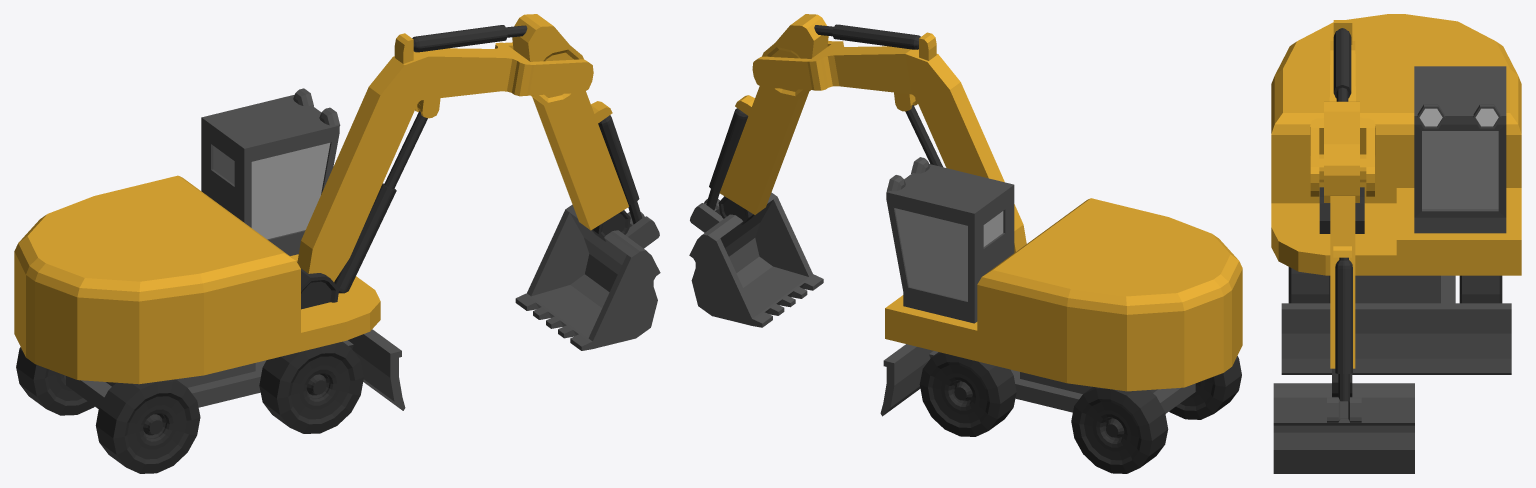
3 renders of one model, left to right at view 1: azimuth 30°, elevation 25°; view 2: azimuth 150°, elevation 25°; view 3: azimuth 270°, elevation 25°, orthographic. The views are drawn at different scales.
Visible parts, largest first — view 1: C-8, Cube.076, Cube.070, Cube.075, Cylinder.075, Cylinder.074, Cube.065, Cube.073, Cube.080, Cylinder.072, Cube.072, Cube.074 (+1 smaller); view 2: C-8, Cube.076, Cube.070, Cube.075, Cylinder.072, Cylinder.073, Cube.065, Cube.080, Cylinder.075, Cube.072, Cube.074, Cube.073; view 3: C-8, Cube.080, Cube.070, Cube.075, Cube.065, Cube.076, Cube.074, Cylinder.074, Cube.072, Cylinder.073, Cube.079.
Boxes of the visible parts, bbox=[...] form: C-8: bbox=[14, 88, 380, 384]; Cube.076: bbox=[297, 33, 593, 281]; Cube.070: bbox=[515, 204, 660, 350]; Cube.075: bbox=[512, 14, 628, 230]; Cylinder.075: bbox=[95, 379, 200, 473]; Cylinder.074: bbox=[259, 341, 363, 433]; Cube.065: bbox=[66, 340, 353, 408]; Cube.073: bbox=[334, 111, 427, 293]; Cube.080: bbox=[348, 329, 405, 410]; Cylinder.072: bbox=[16, 347, 94, 415]; Cube.072: bbox=[412, 25, 527, 52]; Cube.074: bbox=[598, 115, 642, 224]; C-8: bbox=[885, 157, 1242, 391]; Cube.076: bbox=[752, 32, 1026, 252]; Cube.070: bbox=[689, 192, 823, 327]; Cube.075: bbox=[719, 14, 828, 214]; Cylinder.072: bbox=[1071, 387, 1168, 473]; Cylinder.073: bbox=[919, 352, 1016, 436]; Cube.065: bbox=[929, 351, 1195, 413]; Cube.080: bbox=[880, 344, 933, 416]; Cylinder.075: bbox=[1169, 356, 1241, 419]; Cube.072: bbox=[814, 24, 920, 49]; Cube.074: bbox=[706, 108, 748, 210]; Cube.073: bbox=[905, 105, 942, 166]; C-8: bbox=[1271, 14, 1521, 275]; Cube.080: bbox=[1281, 303, 1511, 374]; Cube.070: bbox=[1273, 383, 1414, 473]; Cube.075: bbox=[1319, 101, 1366, 368]; Cube.065: bbox=[1355, 275, 1455, 303]; Cube.076: bbox=[1310, 20, 1375, 196]; Cube.074: bbox=[1335, 257, 1352, 401]; Cylinder.074: bbox=[1288, 267, 1330, 303]; Cube.072: bbox=[1333, 28, 1351, 101]; Cylinder.073: bbox=[1459, 275, 1502, 303]; Cube.079: bbox=[1319, 187, 1364, 233].
Bounding box in the file's own units: 2716 × 1529 × 920.
